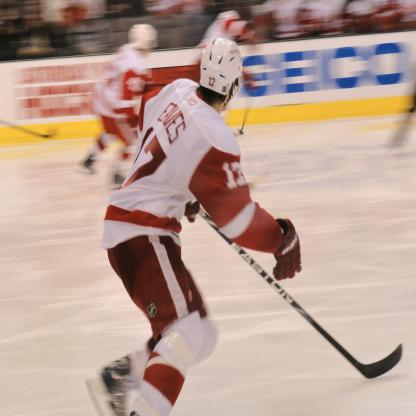Helmet: (200, 28, 245, 101), (128, 19, 156, 54)
